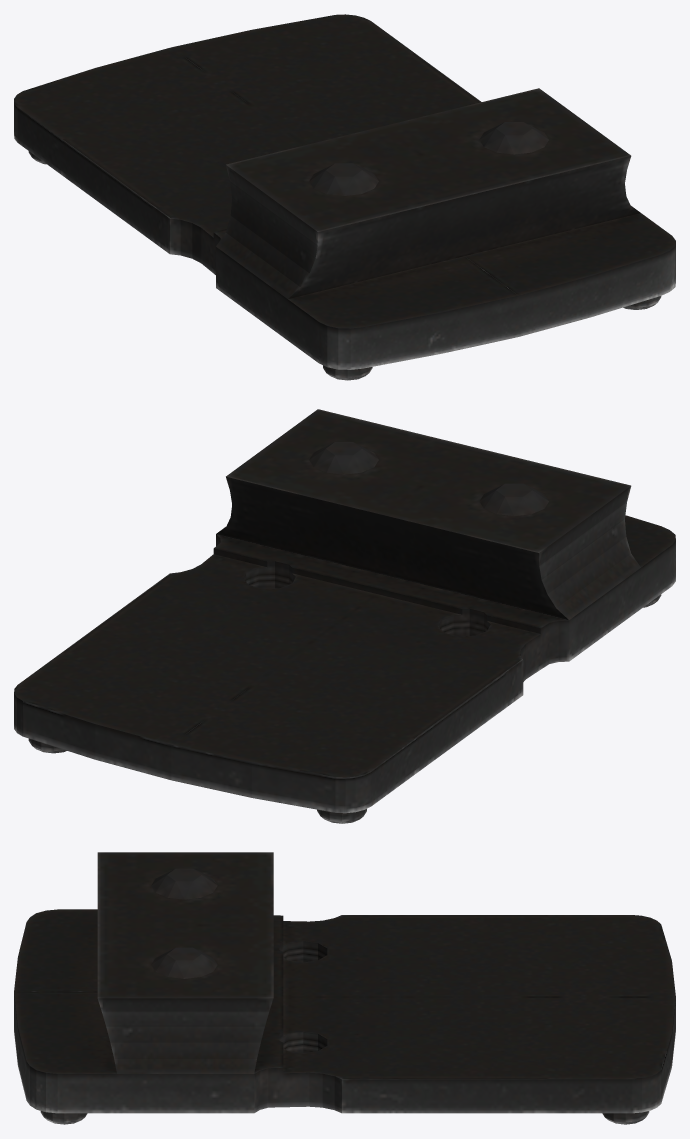
3 renders of one model, top to bottom at view 1: azimuth 30°, elevation 25°; view 2: azimuth 150°, elevation 25°; view 3: azimuth 270°, elevation 25°, orthographic. The views are drawn at different scales.
Visible parts, largest first — view 1: TW_61963a852d2c397d660036ad_PZ_Import; view 2: TW_61963a852d2c397d660036ad_PZ_Import; view 3: TW_61963a852d2c397d660036ad_PZ_Import.
Boxes of the visible parts, left/top/right/bottom form: TW_61963a852d2c397d660036ad_PZ_Import: left=14, top=14, right=675, bottom=380; TW_61963a852d2c397d660036ad_PZ_Import: left=14, top=409, right=675, bottom=823; TW_61963a852d2c397d660036ad_PZ_Import: left=14, top=852, right=675, bottom=1124.
Bounding box in the file's own units: 0.0137 × 0.0234 × 0.00539.
1 material, 1 textured.
